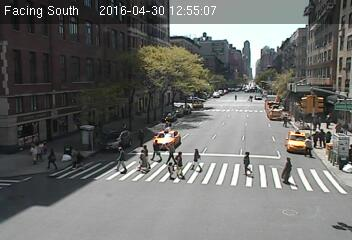neg: (9, 50, 40, 91), (213, 54, 239, 89), (261, 90, 284, 121), (57, 39, 79, 68), (17, 183, 39, 212), (89, 62, 110, 89), (164, 63, 184, 90), (327, 204, 346, 229), (212, 102, 228, 124), (303, 82, 319, 102), (112, 186, 127, 205)
pos: (236, 147, 261, 180), (275, 154, 298, 185), (108, 145, 129, 173), (187, 145, 204, 167), (69, 146, 86, 168), (302, 136, 319, 158), (133, 149, 149, 171), (172, 149, 188, 170), (49, 149, 65, 170), (151, 137, 166, 157), (26, 142, 41, 161), (162, 141, 175, 158), (165, 162, 177, 178), (313, 128, 325, 144)
